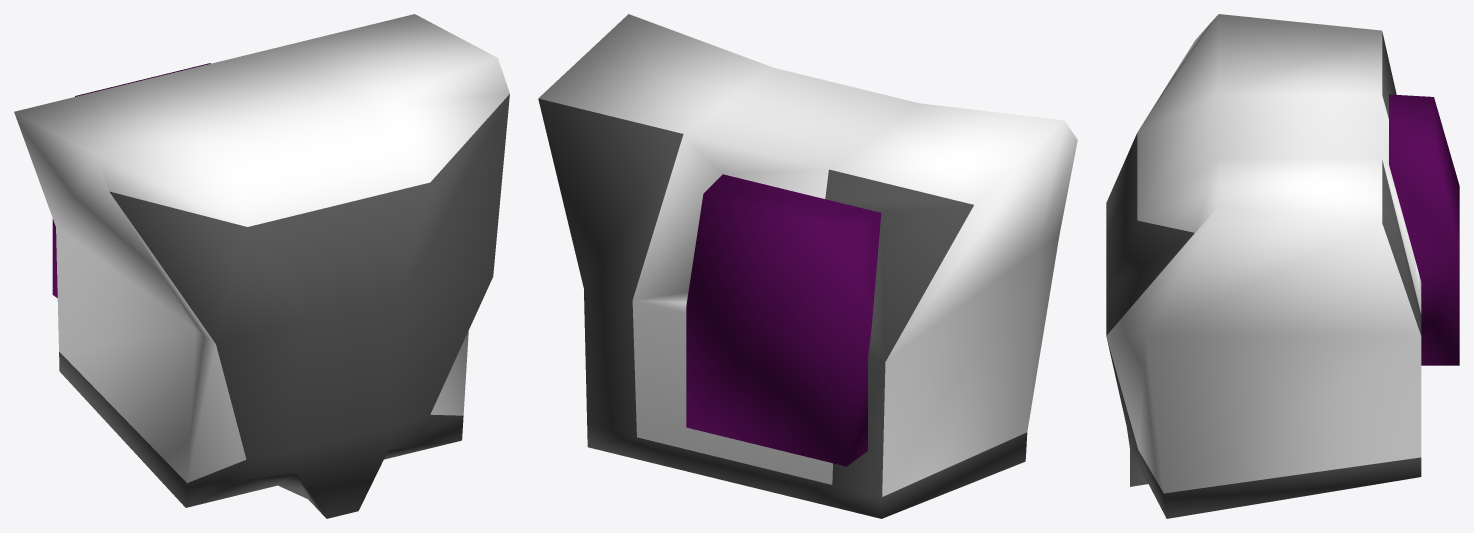
Rendered from Torso.fbx.
3 renders of one model, left to right at view 1: azimuth 30°, elevation 25°; view 2: azimuth 150°, elevation 25°; view 3: azimuth 270°, elevation 25°, orthographic. The views are drawn at different scales.
Parts seen in each view (by area): view 1: Torso; view 2: Torso; view 3: Torso.
Boxes of the visible parts, x1,y1,x2,y2 form: Torso: (14, 14, 509, 518); Torso: (538, 14, 1077, 518); Torso: (1106, 14, 1459, 518).
Bounding box in the file's own units: 1.44 × 1.29 × 1.12.
